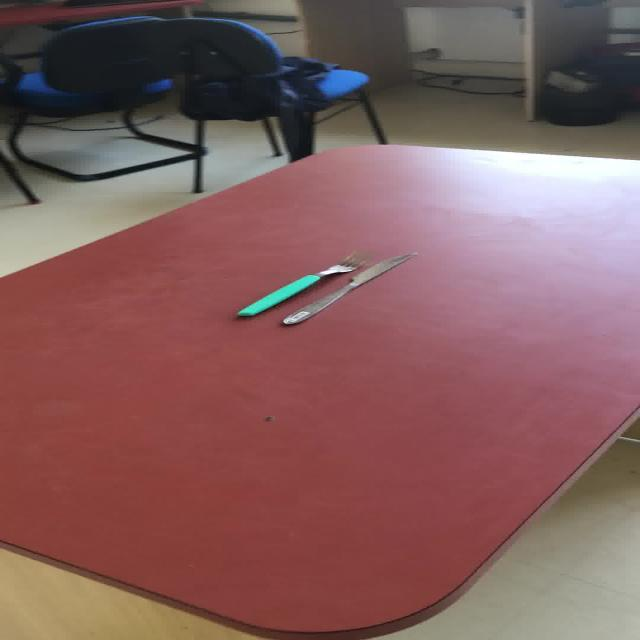fork: (235, 250, 365, 317)
knife fork: (235, 248, 418, 325), (280, 250, 417, 325), (235, 250, 365, 317)
